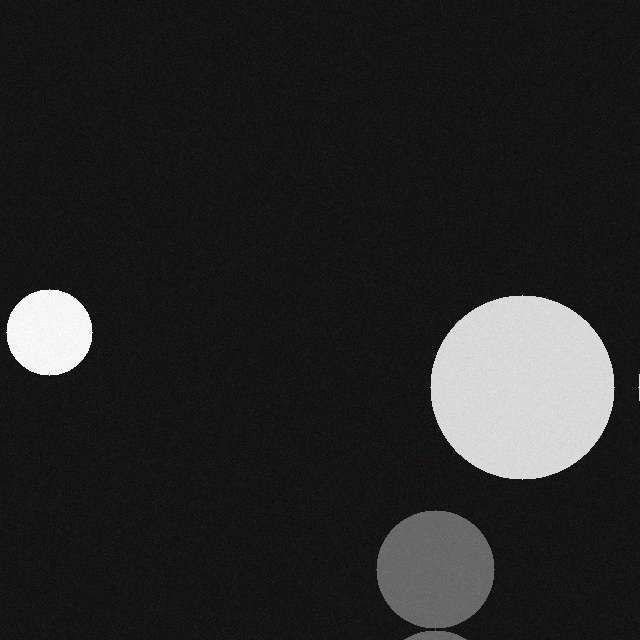circle: (443, 305, 627, 489), (389, 520, 507, 638), (19, 299, 105, 385)
